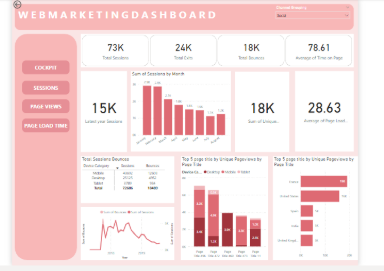

The dashboard page shown, as its layout file describes it:
{"tool":"powerbi","page":{"name":"Page 1","canvas":[1300,1000],"ordinal":0},"visuals":[{"type":"textbox","box":[10,18,1274,98],"z":0},{"type":"shape","box":[10,130,234,850],"z":1000},{"type":"actionButton","box":[38,230,178,52],"z":2000},{"type":"actionButton","box":[38,306,178,52],"z":3000},{"type":"actionButton","box":[38,376,178,52],"z":4000},{"type":"actionButton","box":[38,448,178,52],"z":5000},{"type":"actionButton","box":[0,0,100,40],"z":6000},{"type":"cardVisual","fields":{"Data":["Sum(Power BI hw assignment - Web Marketing Dashboard Data.Sessions)","Sum(Power BI hw assignment - Web Marketing Dashboard Data.Exits)","Sum(Power BI hw assignment - Web Marketing Dashboard Data.Bounces)","Avg(Power BI hw assignment - Web Marketing Dashboard Data.Time on Page)"]},"box":[258,130,1026,126],"z":7000},{"type":"cardVisual","fields":{"Data":["Sum(Power BI hw assignment - Web Marketing Dashboard Data.Sessions)"]},"box":[258,270,174,304],"z":8000},{"type":"cardVisual","fields":{"Data":["Sum(Power BI hw assignment - Web Marketing Dashboard Data.Unique Pageviews)"]},"box":[838,272,204,302],"z":9000},{"type":"cardVisual","fields":{"Data":["Avg(Power BI hw assignment - Web Marketing Dashboard Data.Page Load Time)"]},"box":[1064,270,220,302],"z":10000},{"type":"clusteredColumnChart","fields":{"Category":["Power BI hw assignment - Web Marketing Dashboard Data.Date.Variation.Date Hierarchy.Month"],"Y":["Sum(Power BI hw assignment - Web Marketing Dashboard Data.Sessions)"]},"box":[446,270,376,302],"z":11000},{"type":"pivotTable","title":"Total Sessions Bounces","fields":{"Rows":["Power BI hw assignment - Web Marketing Dashboard Data.Device Category"],"Values":["Sum(Power BI hw assignment - Web Marketing Dashboard Data.Sessions)","Sum(Power BI hw assignment - Web Marketing Dashboard Data.Bounces)"]},"box":[258,590,352,176],"z":12000},{"type":"lineChart","fields":{"Category":["Power BI hw assignment - Web Marketing Dashboard Data.Date.Variation.Date Hierarchy.Year","Power BI hw assignment - Web Marketing Dashboard Data.Date.Variation.Date Hierarchy.Month"],"Y":["Sum(Power BI hw assignment - Web Marketing Dashboard Data.Bounces)"],"Y2":["Sum(Power BI hw assignment - Web Marketing Dashboard Data.Sessions)"]},"box":[258,780,352,200],"z":13000},{"type":"columnChart","title":"Top 5 page title by Unique Pageviews by Page Title","fields":{"Category":["Power BI hw assignment - Web Marketing Dashboard Data.Page Title"],"Y":["Sum(Power BI hw assignment - Web Marketing Dashboard Data.Unique Pageviews)"],"Series":["Power BI hw assignment - Web Marketing Dashboard Data.Device Category"]},"box":[634,590,328,390],"z":14000},{"type":"clusteredBarChart","title":"Top 5 page title by Unique Pageviews by Page Title","fields":{"Y":["Sum(Power BI hw assignment - Web Marketing Dashboard Data.Unique Pageviews)"],"Category":["Power BI hw assignment - Web Marketing Dashboard Data.Country"]},"box":[980,590,320,390],"z":15000},{"type":"slicer","fields":{"Values":["Power BI hw assignment - Web Marketing Dashboard Data.Channel Grouping"]},"box":[980,18,300,70],"z":16000}]}

Visuals, with their boxes on the page's 1300x1000 design canvas (x1, y1, x2, y2). These are canvas units, not pixel positions in the 384x271 screenshot, which may show the page scaled, cropped or inside an application window:
textbox: <box>10,18,1284,116</box>
shape: <box>10,130,244,980</box>
actionButton: <box>38,230,216,282</box>
actionButton: <box>38,306,216,358</box>
actionButton: <box>38,376,216,428</box>
actionButton: <box>38,448,216,500</box>
actionButton: <box>0,0,100,40</box>
cardVisual - Sum(Power BI hw assignment - Web Marketing Dashboard Data.Sessions) x Sum(Power BI hw assignment - Web Marketing Dashboard Data.Exits): <box>258,130,1284,256</box>
cardVisual - Sum(Power BI hw assignment - Web Marketing Dashboard Data.Sessions): <box>258,270,432,574</box>
cardVisual - Sum(Power BI hw assignment - Web Marketing Dashboard Data.Unique Pageviews): <box>838,272,1042,574</box>
cardVisual - Avg(Power BI hw assignment - Web Marketing Dashboard Data.Page Load Time): <box>1064,270,1284,572</box>
clusteredColumnChart - Power BI hw assignment - Web Marketing Dashboard Data.Date.Variation.Date Hierarchy.Month x Sum(Power BI hw assignment - Web Marketing Dashboard Data.Sessions): <box>446,270,822,572</box>
"Total Sessions Bounces" pivotTable: <box>258,590,610,766</box>
lineChart - Power BI hw assignment - Web Marketing Dashboard Data.Date.Variation.Date Hierarchy.Year x Power BI hw assignment - Web Marketing Dashboard Data.Date.Variation.Date Hierarchy.Month: <box>258,780,610,980</box>
"Top 5 page title by Unique Pageviews by Page Title" columnChart: <box>634,590,962,980</box>
"Top 5 page title by Unique Pageviews by Page Title" clusteredBarChart: <box>980,590,1300,980</box>
slicer - Power BI hw assignment - Web Marketing Dashboard Data.Channel Grouping: <box>980,18,1280,88</box>
